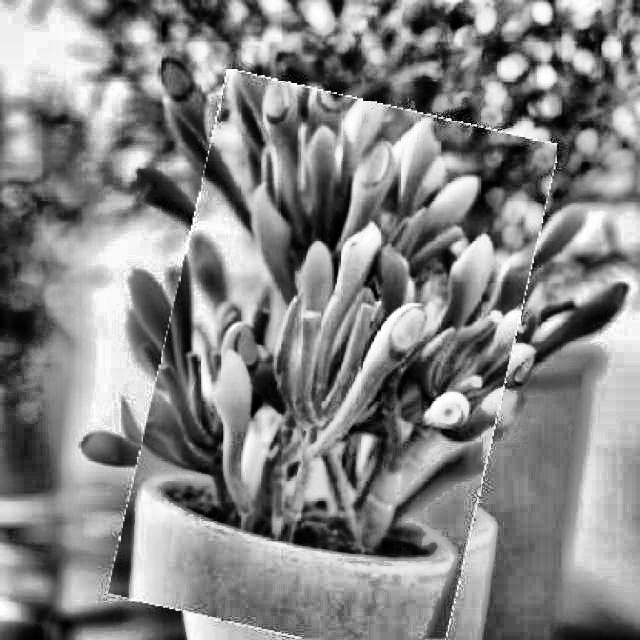plants: (133, 84, 532, 638)
